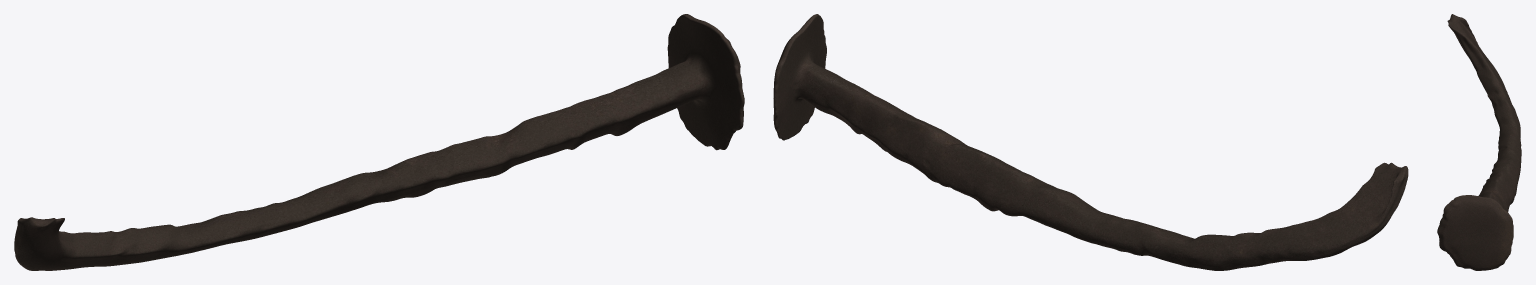
File: nail.glb
The picture shows the model from 3 angles, left to right: view 1: azimuth 30°, elevation 25°; view 2: azimuth 150°, elevation 25°; view 3: azimuth 270°, elevation 25°; orthographic projection. The views are drawn at different scales.
Bounding box in the file's own units: 1.9 × 0.364 × 0.3462.
Materials: 1 (1 with a texture image).
